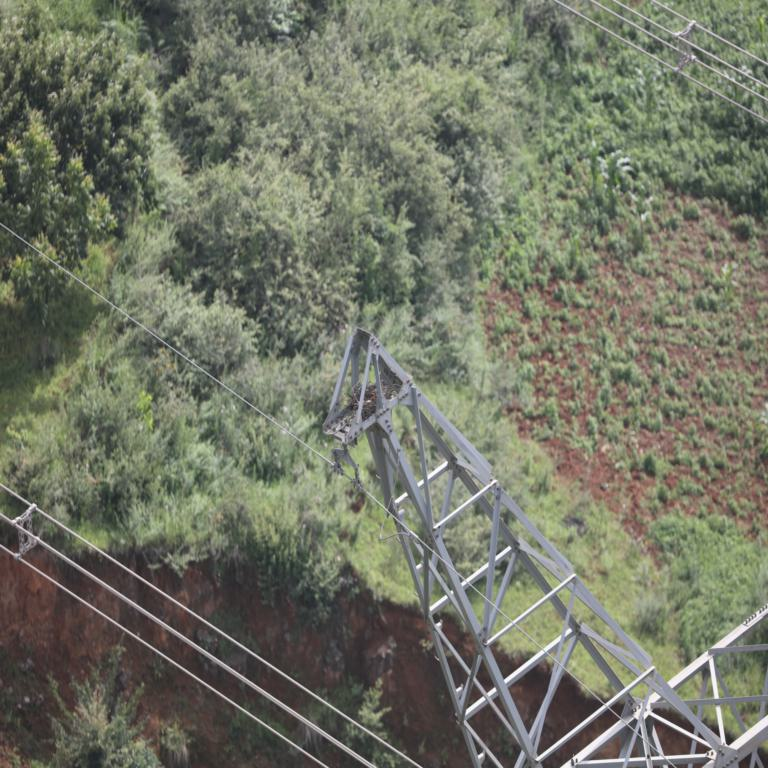nest: (348, 387, 387, 417)
